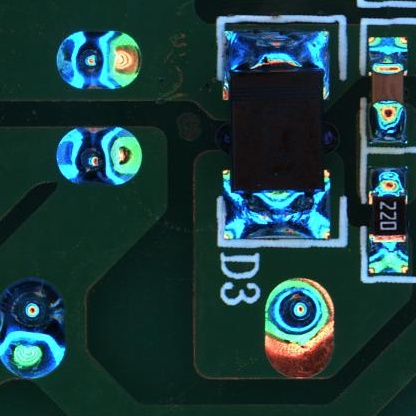spot: (264, 276, 336, 379), (1, 276, 67, 380), (56, 125, 142, 188), (57, 30, 142, 89)
